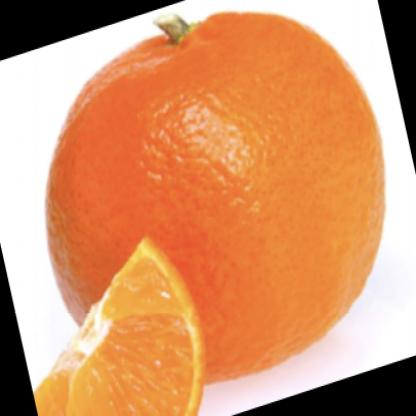orange: (41, 20, 387, 372)
